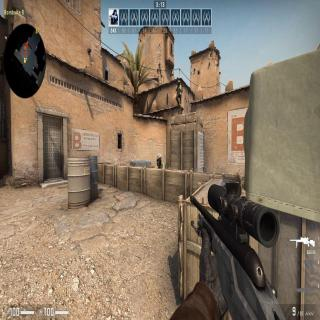CT-Body: (175, 80, 182, 102), (156, 152, 164, 169)
CT-Head: (156, 153, 162, 163), (177, 80, 180, 86)
